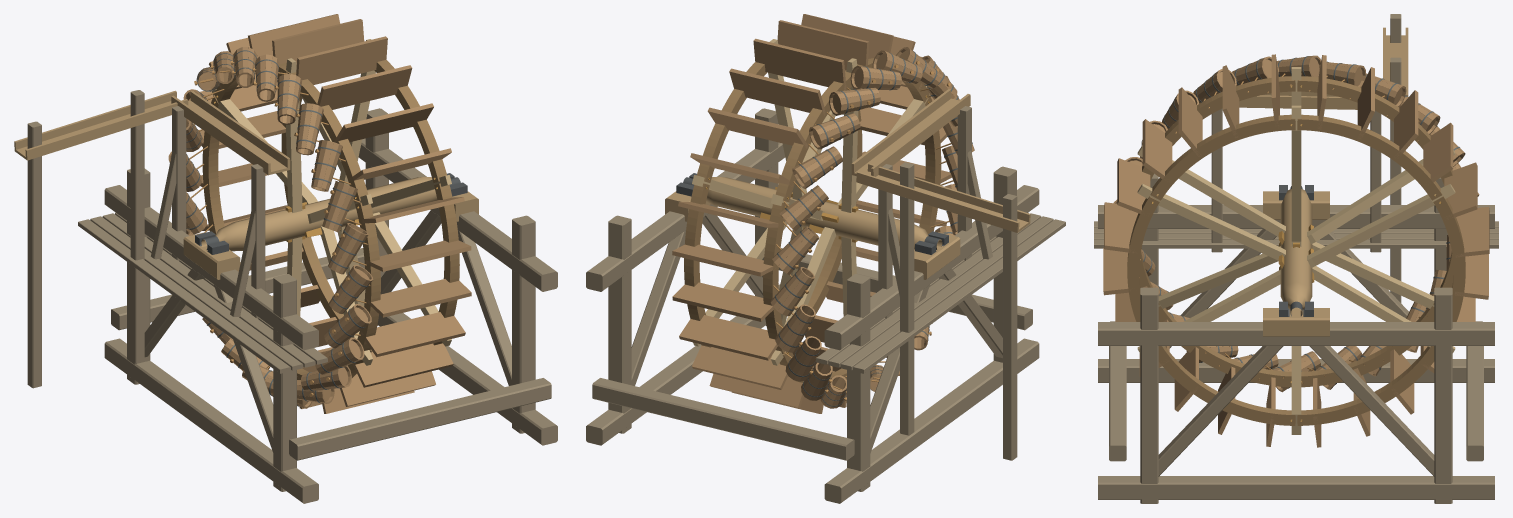
File: brute-ITER-001.glb
3 renders of one model, left to right at view 1: azimuth 30°, elevation 25°; view 2: azimuth 150°, elevation 25°; view 3: azimuth 270°, elevation 25°, orthographic.
Parts seen in each view (by area): view 1: CTX-CROSS--2.25, CTX-RAIL--1--2.48, CTX-RAIL--1--0.34, CTX-CHANNEL-SUPPORT--3.6, CTX-CHANNEL-SUPPORT--2.1, CTX-POST-1--1.85, HYP-SHAFT, CTX-RAIL-1--0.34, CAND-CHANNEL, CTX-POST--1--1.85, CAND-TROUGH, CTX-WALK-3 (+41 smaller); view 2: CTX-CROSS-2.25, CTX-RAIL--1--2.48, CTX-CHANNEL-SUPPORT--3.6, CTX-CHANNEL-SUPPORT--2.1, CTX-RAIL--1--0.34, CTX-POST-1-1.85, CTX-RAIL-1--0.34, CAND-CHANNEL, CTX-POST--1-1.85, HYP-SHAFT, CAND-TROUGH, CTX-WALK-3 (+40 smaller); view 3: CTX-RAIL-1--2.48, CTX-RAIL-1--0.34, CTX-POST-1--1.85, CTX-POST-1-1.85, HIST-ARM-WATER-3-6, HIST-ARM-WATER-2-5, HIST-ARM-LAND-3-6, HIST-ARM-LAND-2-5, CTX-RAIL--1--0.34, HYP-SHAFT, CTX-BRACE-1--1, CTX-BRACE-1-1 (+45 smaller).
Part boxes in pixels (x1,y1,x2,y2): CTX-CROSS--2.25: (289, 378, 551, 460); CTX-RAIL--1--2.48: (104, 338, 318, 503); CTX-RAIL--1--0.34: (104, 185, 318, 350); CTX-CHANNEL-SUPPORT--3.6: (27, 121, 41, 388); CTX-CHANNEL-SUPPORT--2.1: (130, 90, 144, 362); CTX-POST-1--1.85: (512, 215, 535, 433); HYP-SHAFT: (201, 177, 437, 251); CTX-RAIL-1--0.34: (358, 138, 557, 291); CAND-CHANNEL: (14, 90, 188, 160); CTX-POST--1--1.85: (273, 274, 296, 491); CAND-TROUGH: (171, 91, 290, 175); CTX-WALK-3: (78, 219, 290, 373); CTX-CROSS-2.25: (592, 378, 854, 460); CTX-RAIL--1--2.48: (824, 338, 1039, 503); CTX-CHANNEL-SUPPORT--3.6: (1003, 194, 1017, 460); CTX-CHANNEL-SUPPORT--2.1: (900, 162, 914, 435); CTX-RAIL--1--0.34: (824, 185, 1039, 350); CTX-POST-1-1.85: (608, 215, 631, 433); CTX-RAIL-1--0.34: (586, 130, 799, 291); CAND-CHANNEL: (856, 163, 1030, 232); CTX-POST--1-1.85: (847, 274, 870, 491); HYP-SHAFT: (706, 177, 942, 249); CAND-TROUGH: (851, 89, 970, 176); CTX-WALK-3: (853, 219, 1065, 373); CTX-RAIL-1--2.48: (1098, 476, 1494, 499); CTX-RAIL-1--0.34: (1098, 322, 1494, 345); CTX-POST-1--1.85: (1140, 287, 1158, 503); CTX-POST-1-1.85: (1434, 287, 1452, 503); HIST-ARM-WATER-3-6: (1137, 184, 1455, 352); HIST-ARM-WATER-2-5: (1137, 184, 1455, 352); HIST-ARM-LAND-3-6: (1158, 150, 1455, 308); HIST-ARM-LAND-2-5: (1137, 145, 1434, 308); CTX-RAIL--1--0.34: (1098, 205, 1494, 228); HYP-SHAFT: (1280, 189, 1312, 316); CTX-BRACE-1--1: (1158, 346, 1283, 476); CTX-BRACE-1-1: (1309, 346, 1434, 476).
Size of the model in its own units: 5.72 by 5.08 by 5.1.
